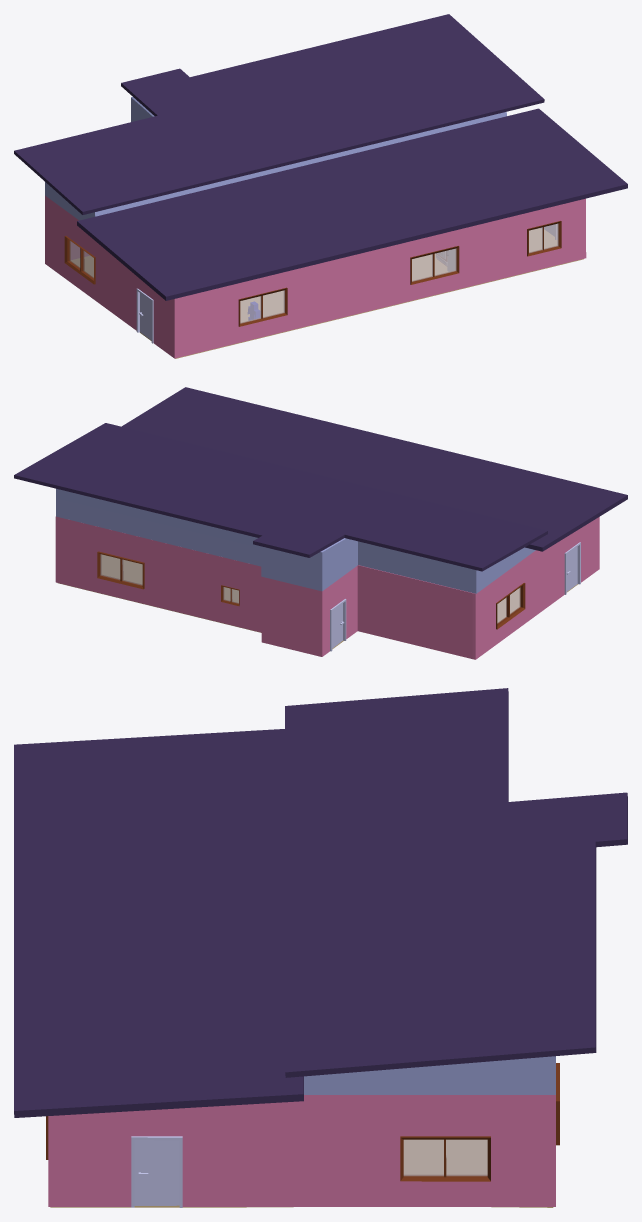
Rendered from House02_WithObjects.fbx.
3 views of the same model, one above another, from view 1: azimuth 30°, elevation 25°; view 2: azimuth 150°, elevation 25°; view 3: azimuth 270°, elevation 25° (orthographic). The views are drawn at different scales.
Visible parts, largest first — view 1: Telhado01, Telhado02, M.casa, F,Teto, Piso, Vidro, Vidro.001, Vidro.002, Janela.003, Janela, Janela.001, Vidro.003 (+1 smaller); view 2: Telhado01, M.casa, Telhado02, F,Teto, Piso, Vidro.004, Janela.004, Janela.003, Porta01, Vidro.003, Porta02; view 3: Telhado01, Telhado02, M.casa, F,Teto, Piso, Vidro.005, Porta03, Janela.005, C,Porta03.
Part boxes in pixels (bbox=[...]): Telhado01: bbox=[14, 14, 544, 214]; Telhado02: bbox=[77, 108, 627, 300]; M.casa: bbox=[45, 195, 586, 358]; F,Teto: bbox=[45, 97, 506, 220]; Piso: bbox=[71, 228, 583, 358]; Vidro: bbox=[240, 290, 284, 323]; Vidro.001: bbox=[412, 248, 456, 281]; Vidro.002: bbox=[529, 223, 558, 253]; Janela.003: bbox=[64, 236, 95, 284]; Janela: bbox=[238, 287, 287, 326]; Janela.001: bbox=[410, 246, 459, 284]; Vidro.003: bbox=[69, 241, 93, 278]; Telhado01: bbox=[14, 423, 547, 571]; M.casa: bbox=[55, 516, 599, 659]; Telhado02: bbox=[122, 387, 627, 551]; F,Teto: bbox=[56, 488, 535, 593]; Piso: bbox=[58, 555, 577, 649]; Vidro.004: bbox=[100, 554, 142, 585]; Janela.004: bbox=[97, 551, 144, 589]; Janela.003: bbox=[496, 583, 525, 629]; Porta01: bbox=[566, 547, 577, 591]; Vidro.003: bbox=[497, 587, 520, 623]; Porta02: bbox=[332, 603, 344, 648]; Telhado01: bbox=[285, 688, 627, 1077]; Telhado02: bbox=[14, 729, 303, 1117]; M.casa: bbox=[48, 1095, 555, 1206]; F,Teto: bbox=[304, 1056, 555, 1094]; Piso: bbox=[50, 1140, 553, 1207]; Vidro.005: bbox=[403, 1139, 487, 1176]; Porta03: bbox=[134, 1140, 179, 1205]; Janela.005: bbox=[400, 1136, 490, 1181]; C,Porta03: bbox=[131, 1136, 182, 1207].
Size of what is drawn, in the model's own units: 2949 by 709 by 2088.
